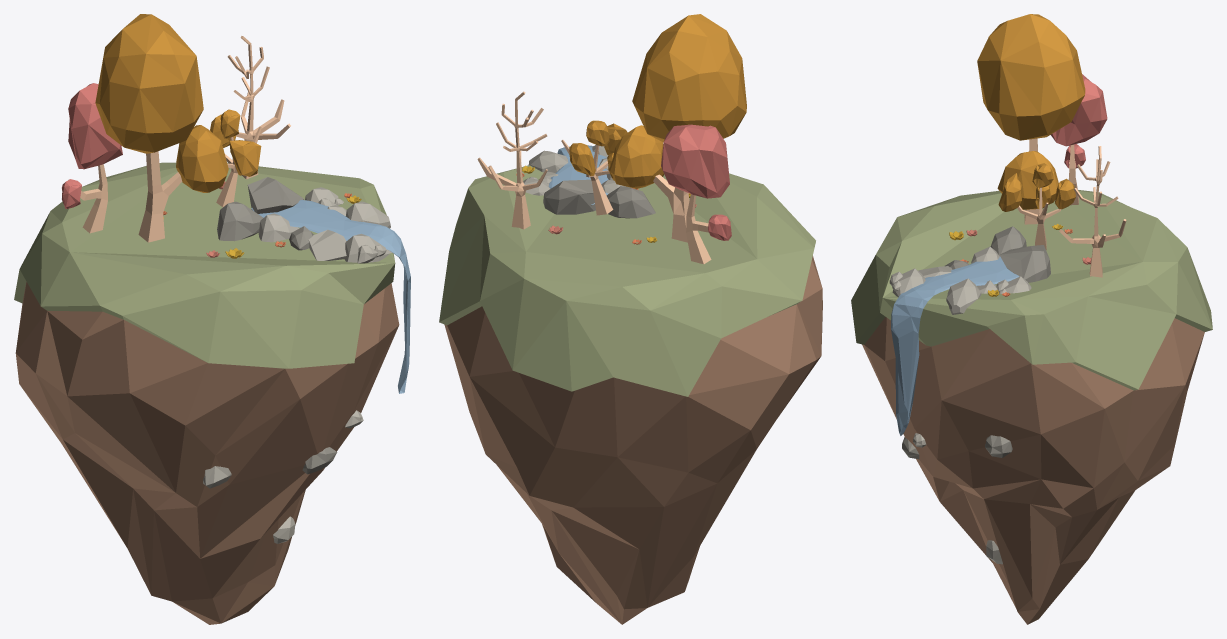
Rendered from small-island.glb.
3 renders of one model, left to right at view 1: azimuth 30°, elevation 25°; view 2: azimuth 150°, elevation 25°; view 3: azimuth 270°, elevation 25°, orthographic. The views are drawn at different scales.
Visible parts, largest first — view 1: Base, Top, Cube.001, Water, Cube.003, Cube.002, Tree, Tree 2.002, Rock.001, Rock, Tree 2, Rock.009 (+5 smaller); view 2: Base, Top, Cube.001, Cube.003, Cube.002, Tree 2.002, Rock.001, Rock, Tree, Tree 2, Tree 2.001, Water (+3 smaller); view 3: Base, Top, Cube.001, Water, Cube.003, Cube.002, Tree 2.002, Rock.001, Rock.008, Rock, Cube.007, Tree 2.001.
Part boxes in pixels (x1,y1,x2,y2): Base: [15, 281, 399, 624]; Top: [14, 162, 395, 368]; Cube.001: [95, 14, 203, 153]; Water: [251, 200, 410, 393]; Cube.003: [68, 83, 122, 169]; Cube.002: [176, 125, 228, 192]; Tree: [138, 151, 182, 242]; Tree 2.002: [227, 36, 290, 179]; Rock.001: [247, 177, 304, 213]; Rock: [217, 201, 262, 241]; Tree 2: [80, 164, 107, 233]; Rock.009: [308, 229, 346, 260]; Base: [444, 256, 822, 624]; Top: [439, 165, 815, 396]; Cube.001: [632, 14, 746, 142]; Cube.003: [661, 124, 729, 198]; Cube.002: [609, 125, 664, 188]; Tree 2.002: [477, 91, 547, 229]; Rock.001: [543, 179, 605, 214]; Rock: [606, 186, 655, 218]; Tree: [653, 174, 689, 242]; Tree 2: [686, 194, 711, 264]; Tree 2.001: [561, 140, 613, 215]; Water: [548, 145, 608, 205]; Base: [862, 317, 1204, 624]; Top: [851, 190, 1212, 390]; Cube.001: [977, 14, 1085, 140]; Water: [891, 256, 1019, 435]; Cube.003: [1051, 74, 1107, 146]; Cube.002: [997, 151, 1058, 209]; Tree 2.002: [1059, 146, 1126, 277]; Rock.001: [999, 245, 1050, 282]; Rock.008: [946, 278, 981, 314]; Rock: [990, 226, 1026, 255]; Cube.007: [998, 173, 1022, 211]; Tree 2.001: [1017, 187, 1061, 250].
Bounding box in the file's own units: 1165 × 1963 × 1115.
